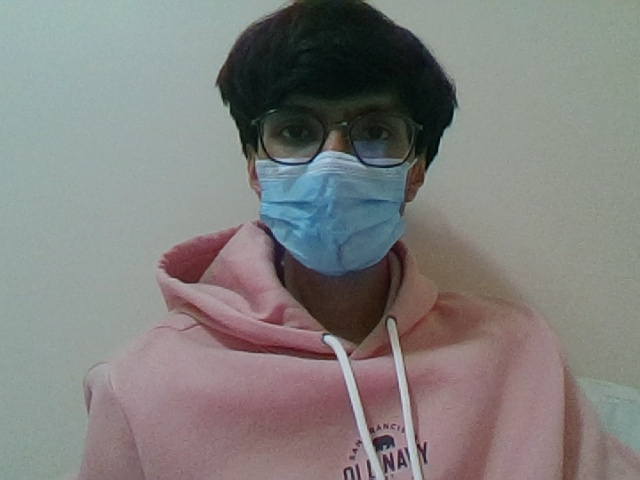Face_mask_found: (242, 147, 436, 277)
